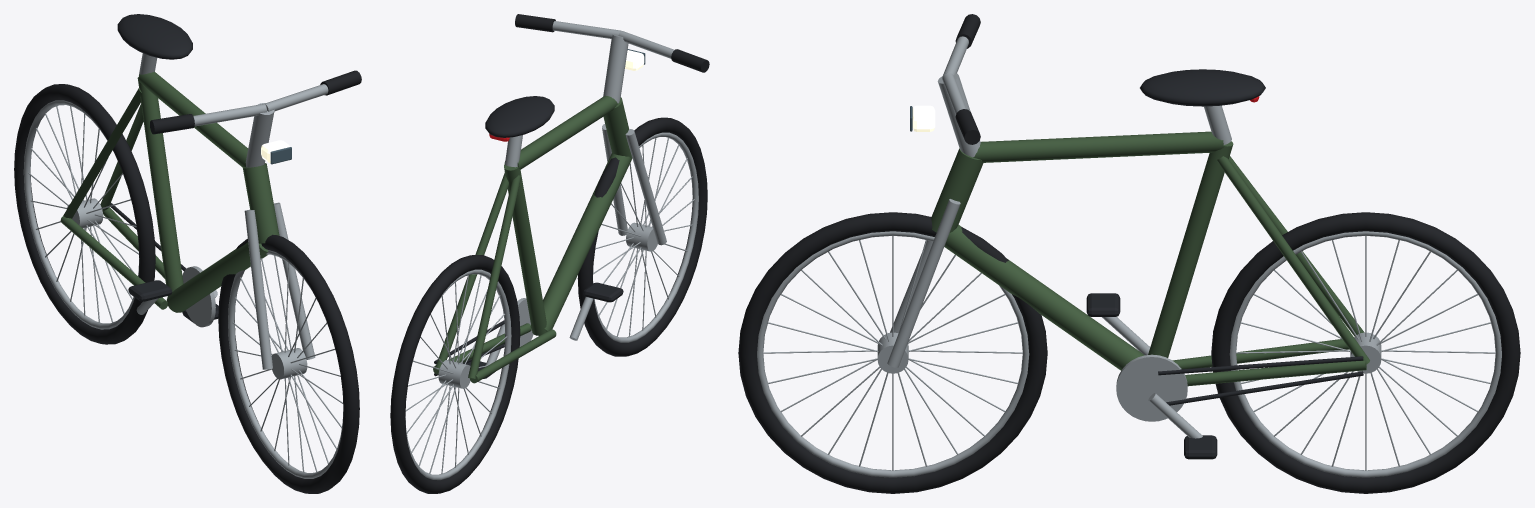
File: Fahrrad.glb
3 views of the same model, side by side, from view 1: azimuth 30°, elevation 25°; view 2: azimuth 150°, elevation 25°; view 3: azimuth 270°, elevation 25° (orthographic). The views are drawn at different scales.
Visible parts, largest first — view 1: Rad_Vorne_Mesh, Rad_Hinten_Mesh, Sattelrohr, Sattel, Oberrohr, Unterrohr, Gabel, Steuerrohr, Sitzstrebe, Gabel.001, Kettenstrebe, Vorbau (+8 smaller); view 2: Rad_Hinten_Mesh, Rad_Vorne_Mesh, Unterrohr, Sattelrohr, Sattel, Oberrohr, Sitzstrebe, Sitzstrebe.001, Gabel, Vorbau, Steuerrohr, Kettenstrebe (+10 smaller); view 3: Rad_Hinten_Mesh, Rad_Vorne_Mesh, Unterrohr, Oberrohr, Sattelrohr, Sattel, Kettenblatt, Sitzstrebe.001, Gabel.001, Kettenstrebe.001, Steuerrohr, Kettenstrebe (+4 smaller).
Part boxes in pixels (<box>): Rad_Vorne_Mesh: <box>218,234,359,493</box>; Rad_Hinten_Mesh: <box>14,84,155,344</box>; Sattelrohr: <box>137,77,183,296</box>; Sattel: <box>117,14,192,59</box>; Oberrohr: <box>138,72,248,167</box>; Unterrohr: <box>166,242,268,312</box>; Gabel: <box>244,209,272,369</box>; Steuerrohr: <box>243,163,279,243</box>; Sitzstrebe: <box>63,88,141,218</box>; Gabel.001: <box>274,202,315,359</box>; Kettenstrebe: <box>60,216,167,309</box>; Vorbau: <box>245,103,274,167</box>; Rad_Hinten_Mesh: <box>390,255,520,493</box>; Rad_Vorne_Mesh: <box>577,117,707,356</box>; Unterrohr: <box>530,153,632,331</box>; Sattelrohr: <box>504,164,546,335</box>; Sattel: <box>485,96,554,137</box>; Oberrohr: <box>504,95,617,169</box>; Sitzstrebe: <box>468,175,521,378</box>; Sitzstrebe.001: <box>435,172,508,370</box>; Gabel: <box>625,129,666,245</box>; Vorbau: <box>603,35,628,103</box>; Steuerrohr: <box>603,97,631,157</box>; Kettenstrebe: <box>470,329,556,383</box>; Rad_Hinten_Mesh: <box>1211,212,1520,493</box>; Rad_Vorne_Mesh: <box>738,212,1047,493</box>; Unterrohr: <box>944,224,1144,370</box>; Oberrohr: <box>973,131,1223,162</box>; Sattelrohr: <box>1148,141,1233,357</box>; Sattel: <box>1140,69,1265,106</box>; Kettenblatt: <box>1116,354,1187,421</box>; Sitzstrebe.001: <box>1217,156,1369,364</box>; Gabel.001: <box>887,199,960,367</box>; Kettenstrebe.001: <box>1185,360,1366,386</box>; Steuerrohr: <box>931,148,983,232</box>; Kettenstrebe: <box>1172,339,1349,369</box>.
Bounding box in the file's own units: 0.6268 × 1.05 × 1.77.
